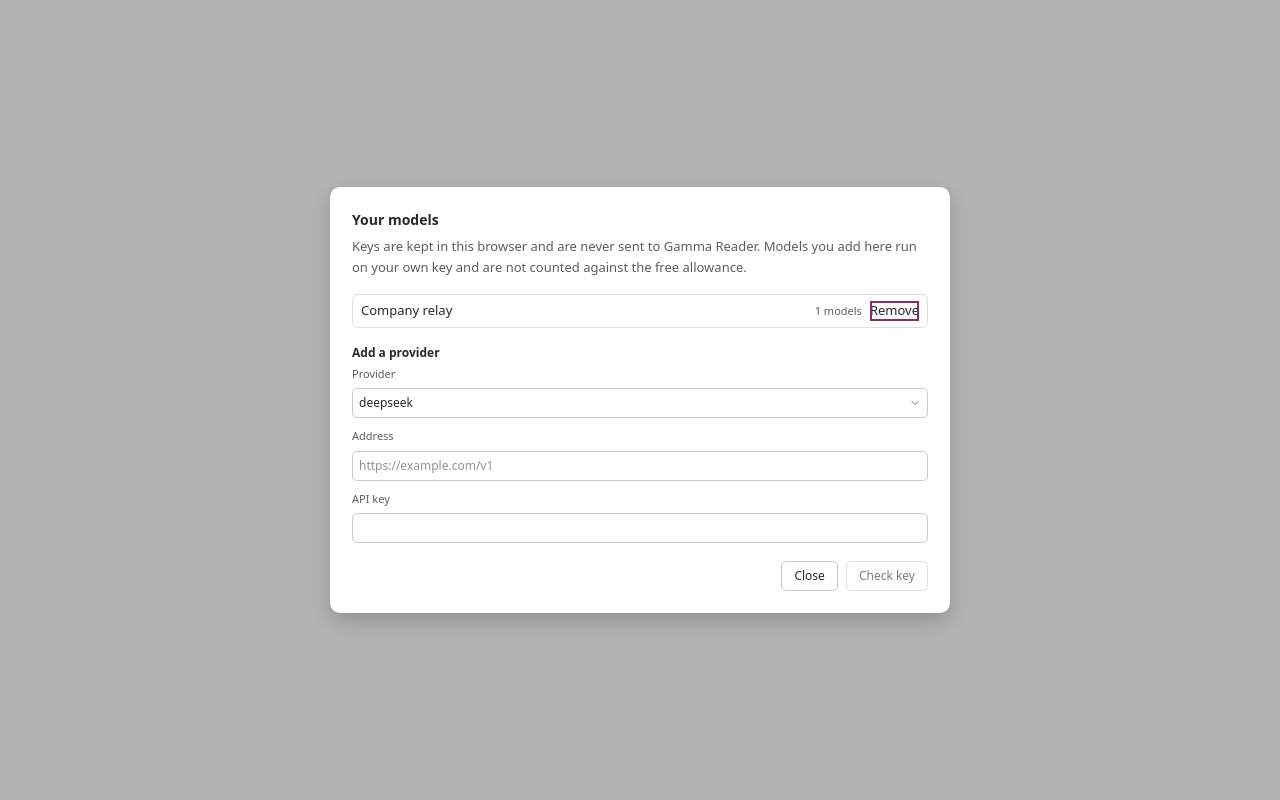
Test: the model providers dialog › asks before removing a provider, since its key cannot be had back from here
This screenshot has width=1280, height=800.
What coordinates should you click on to do the following:
click the button "Remove"
I would click on:
 (894, 311)
Its box is [870,301,919,321].
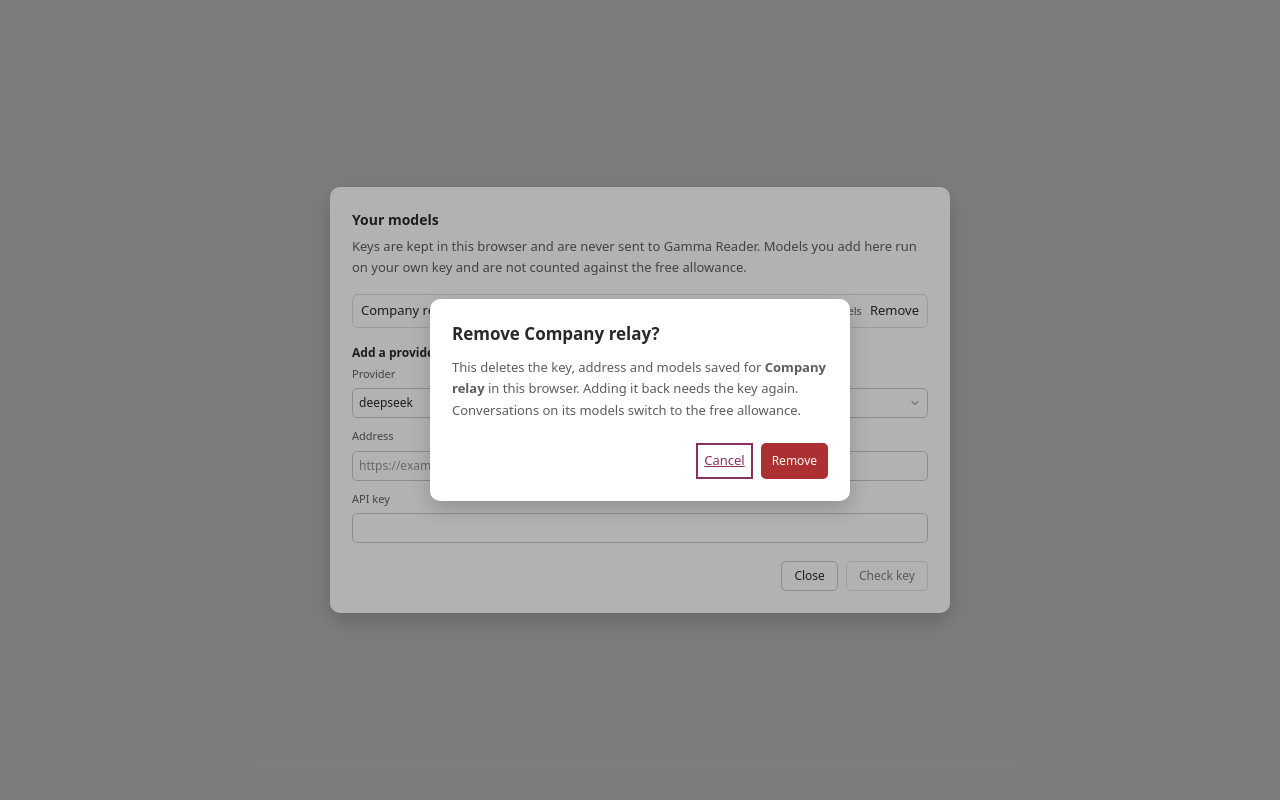
Result: the dialog "Remove Company relay" shows "key, address and models" at [430,299,850,501]
What coordinates should you click on to do the following:
click the button "Cancel"
I would click on:
 (724, 461)
Its box is [696,443,753,479].
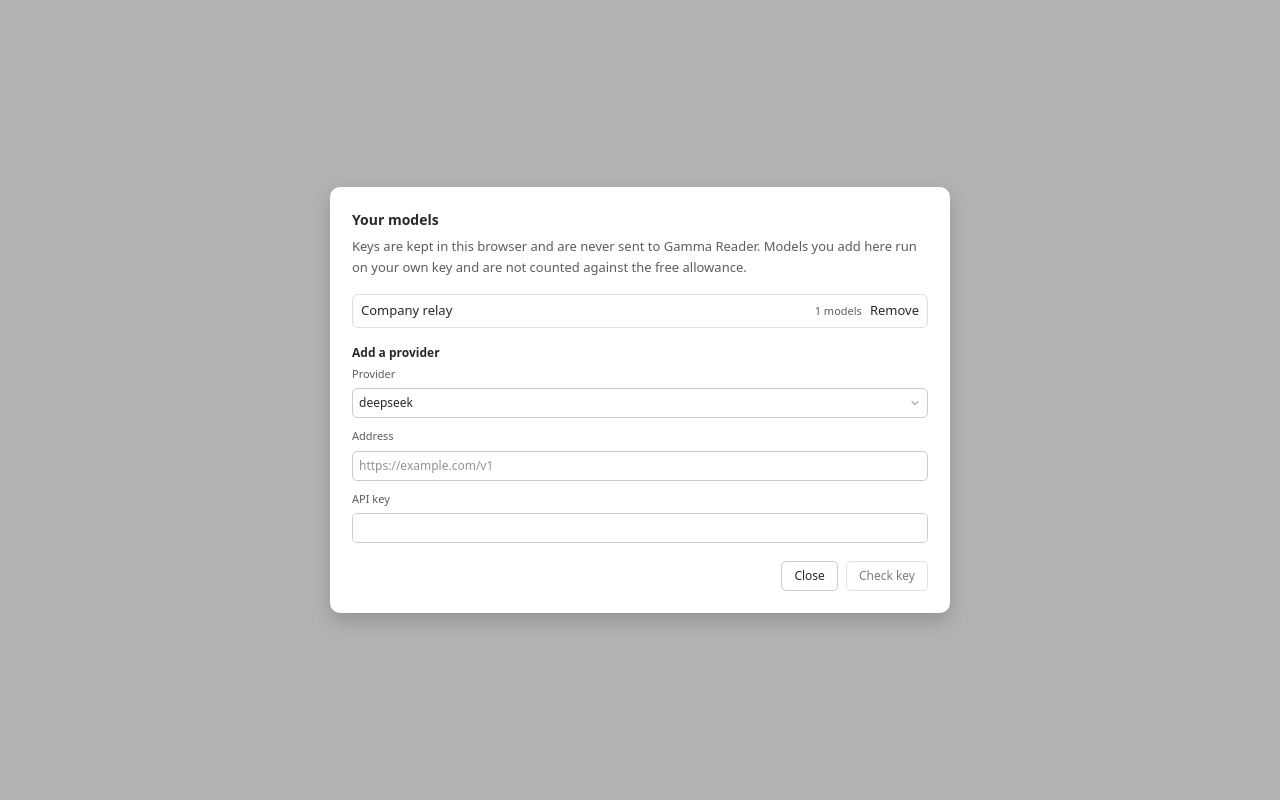
Result: the heading "Remove Company relay" is gone
What coordinates should you click on to do the following:
click the button "Remove"
I would click on:
 (894, 311)
Its box is [870,301,919,321].
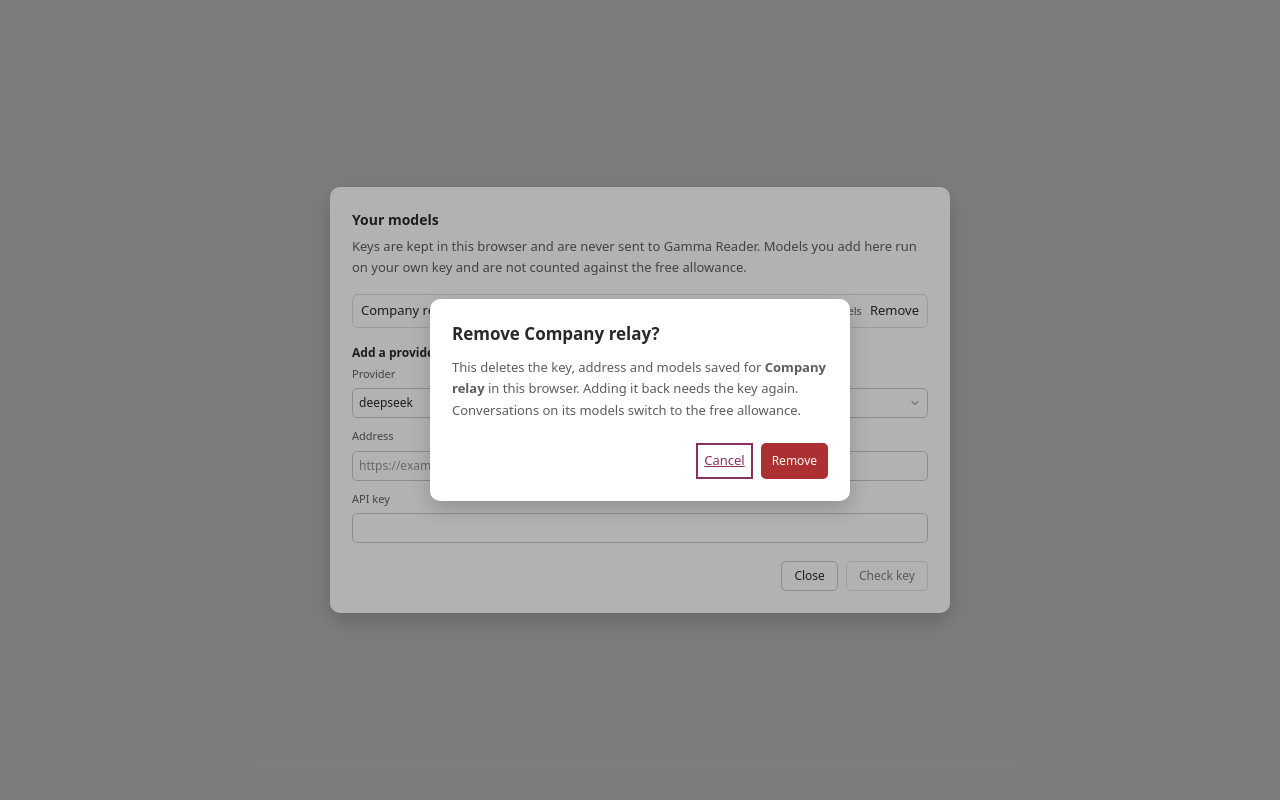
What coordinates should you click on to do the following:
click the button "Remove"
I would click on:
 (794, 461)
Its box is [761,443,828,479].
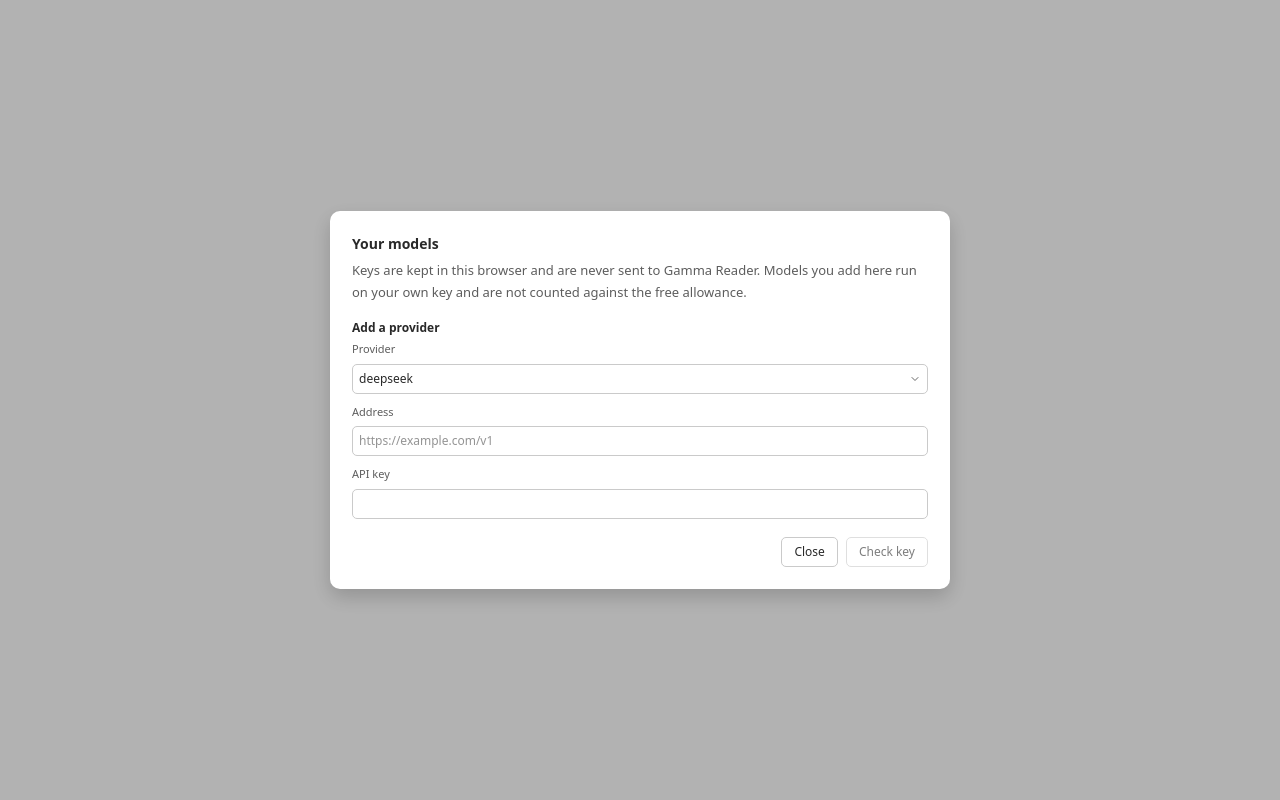
Result: the text "Company relay" is gone
